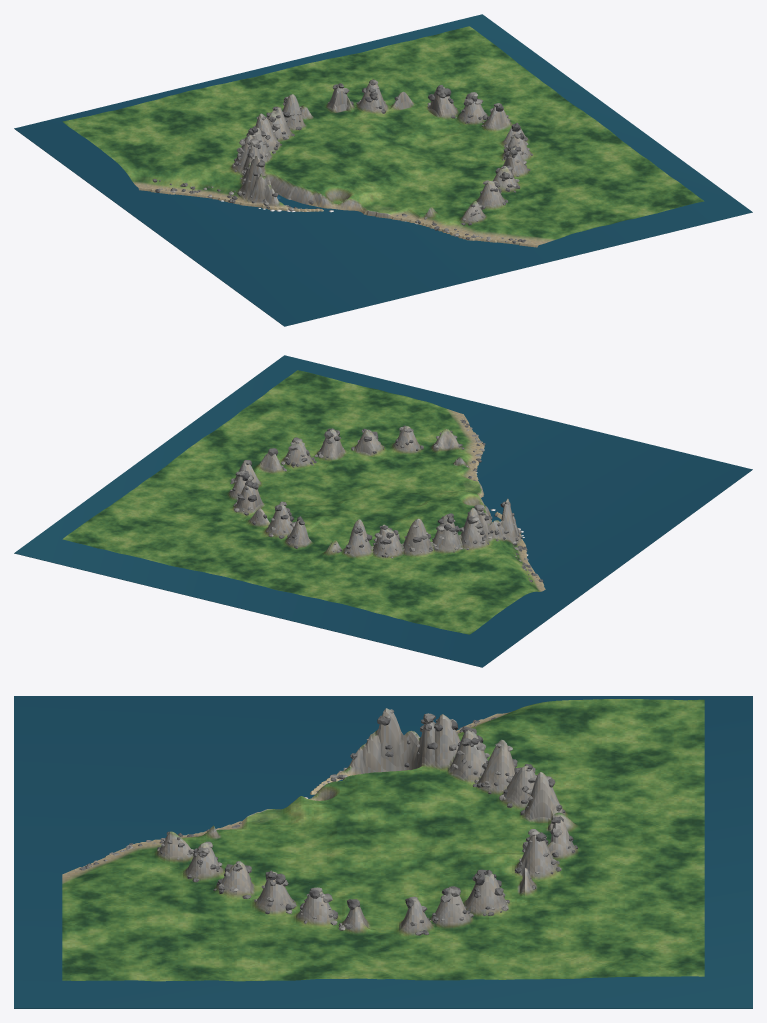
The model's file is Terrain_P2.fbx.
3 renders of one model, top to bottom at view 1: azimuth 30°, elevation 25°; view 2: azimuth 150°, elevation 25°; view 3: azimuth 270°, elevation 25°, orthographic. The views are drawn at different scales.
Visible parts, largest first — view 1: Ground, Sea; view 2: Ground, Sea; view 3: Ground, Sea.
Boxes of the visible parts, x1=… form: Ground: x1=62, y1=26, x2=704, y2=247; Sea: x1=14, y1=14, x2=752, y2=326; Ground: x1=62, y1=370, x2=545, y2=634; Sea: x1=14, y1=355, x2=752, y2=667; Ground: x1=62, y1=699, x2=704, y2=981; Sea: x1=14, y1=696, x2=752, y2=1008.
Bounding box in the file's own units: 73600 × 8947 × 73600.
